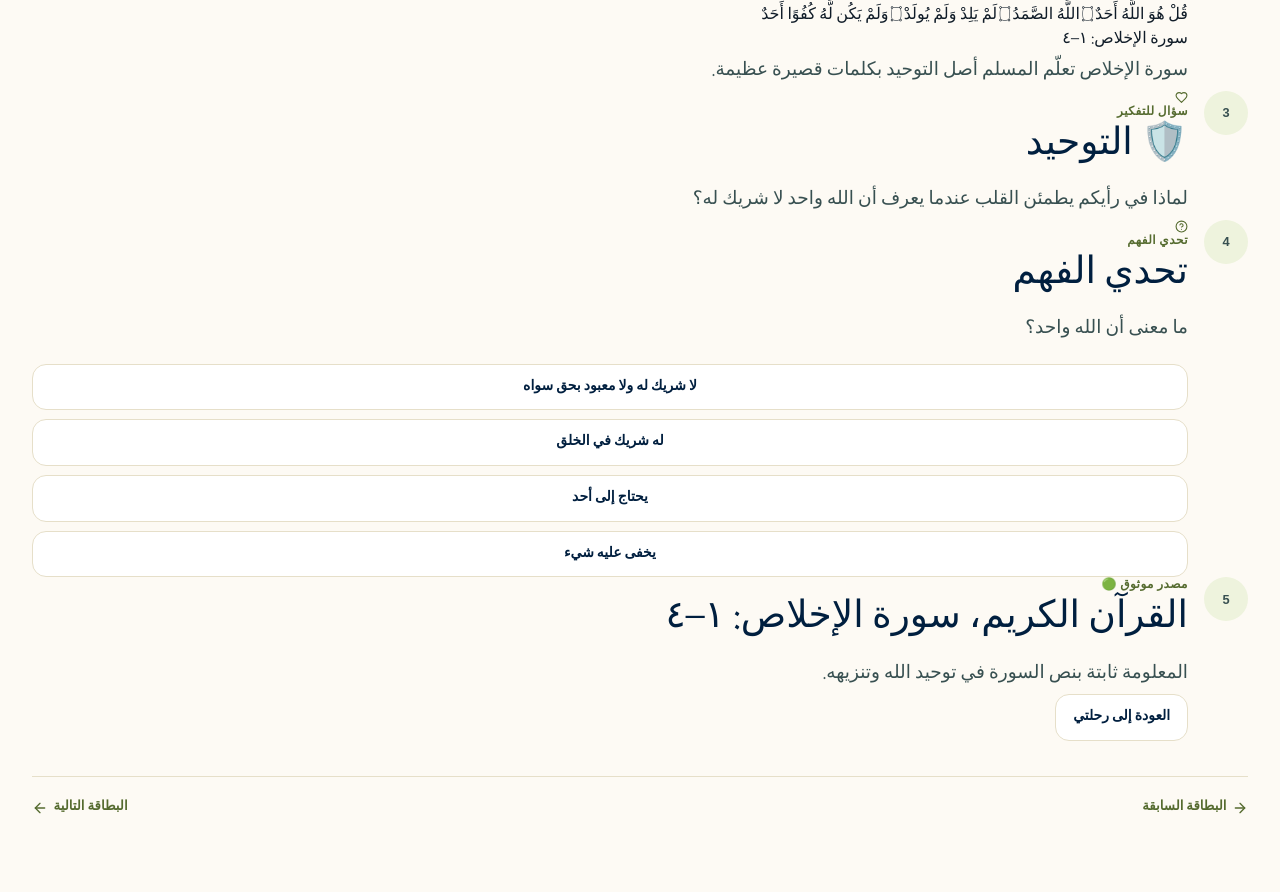
Scenario: answering a card › gives the reward only once the right answer is chosen
The image size is (1280, 892).
(page scrolled)
Click the button "له شريك في الخلق".
click(610, 443)  # box [32,419,1188,466]
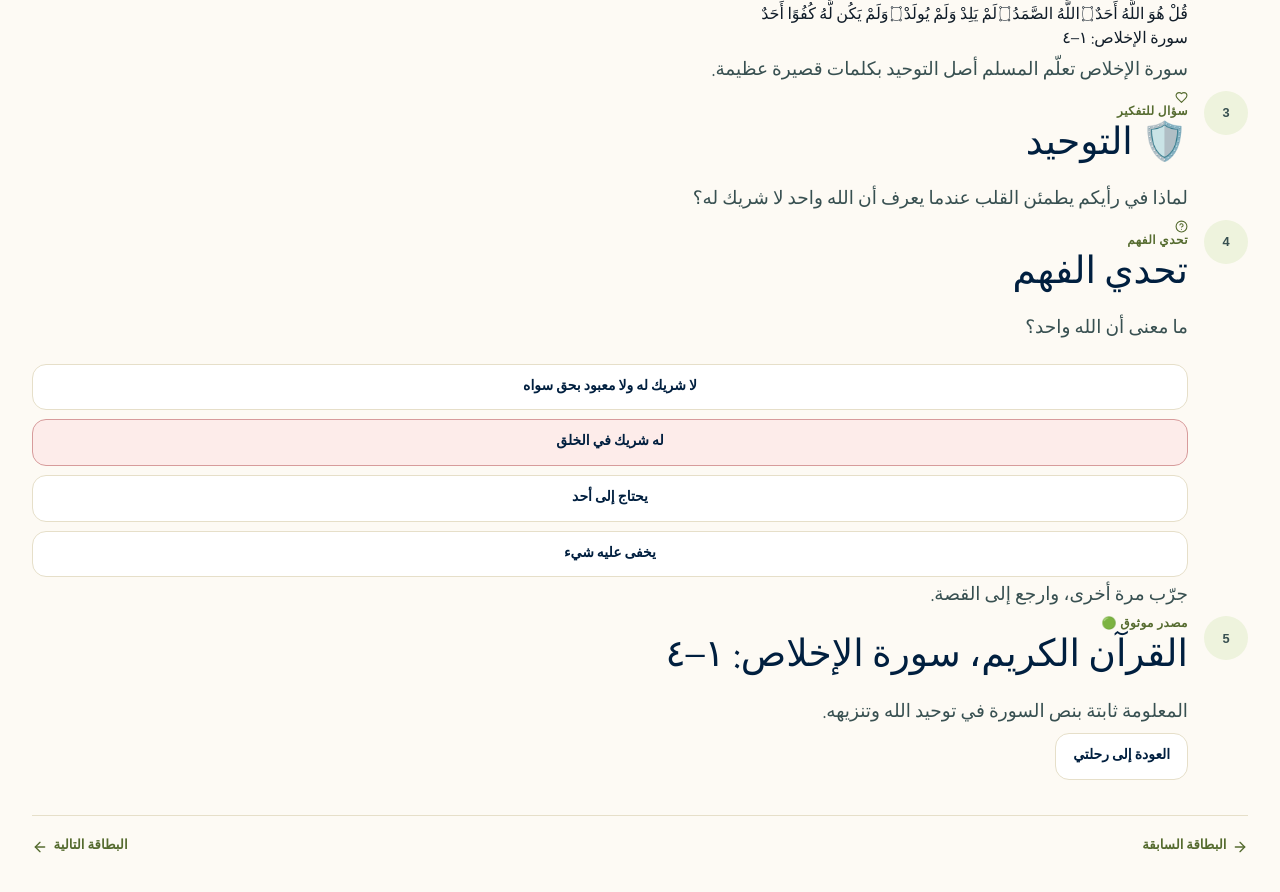
Click the button "لا شريك له ولا معبود بحق سواه".
click(610, 387)  # box [32,364,1188,410]
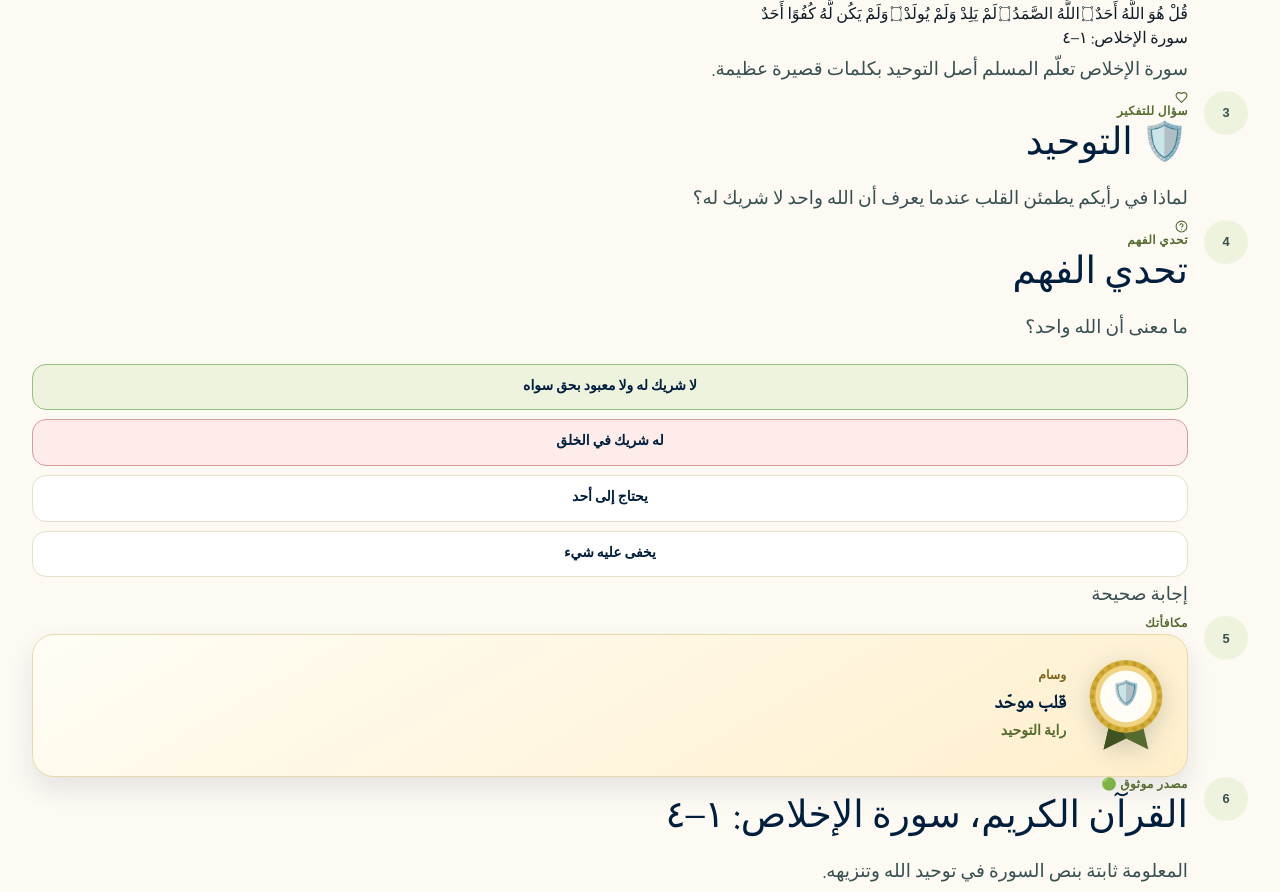
Result: the picture with class "badge-award" is shown at [32,634,1188,777]
